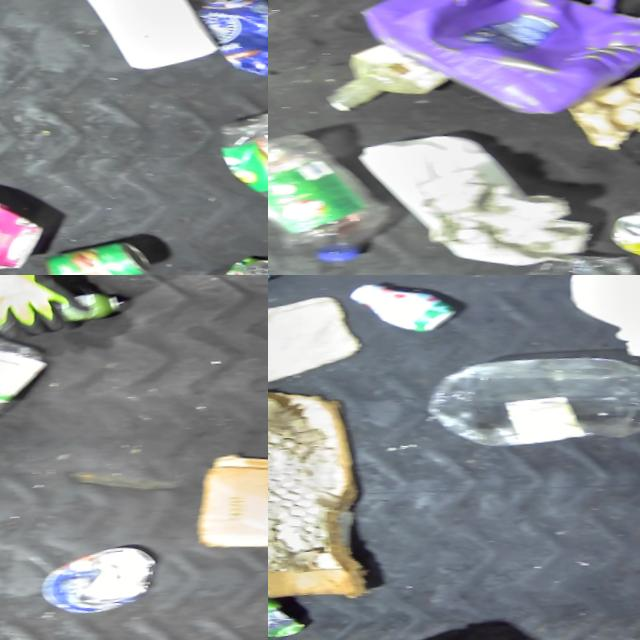can: (38, 535, 161, 618), (190, 0, 268, 84), (39, 231, 164, 275), (268, 579, 328, 640), (607, 192, 640, 265), (211, 236, 268, 275)
milk_jug: (559, 275, 640, 363)
non_white_jug: (341, 0, 640, 138), (0, 170, 59, 275)
plastic_bottle: (420, 331, 640, 456), (268, 121, 403, 273), (0, 325, 36, 460)
